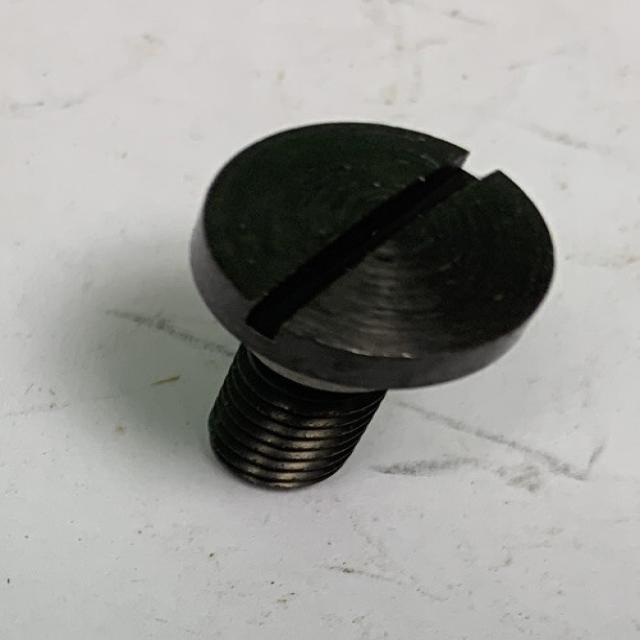duz: (196, 120, 557, 386)
